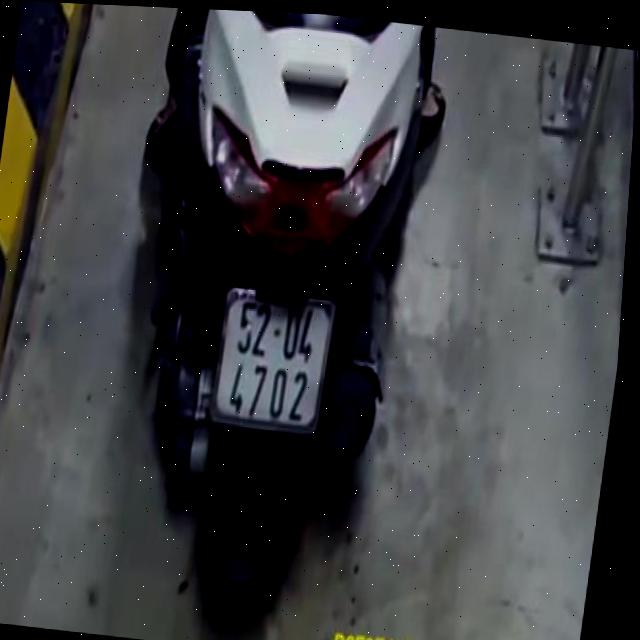motorcycle: (101, 6, 450, 630)
plate: (204, 282, 341, 440)
